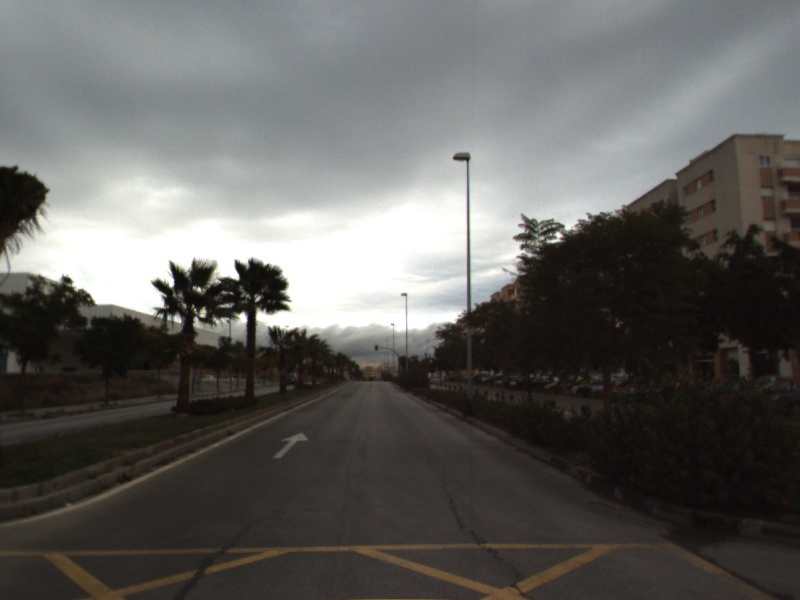STRAIGHT: (271, 430, 311, 460)
